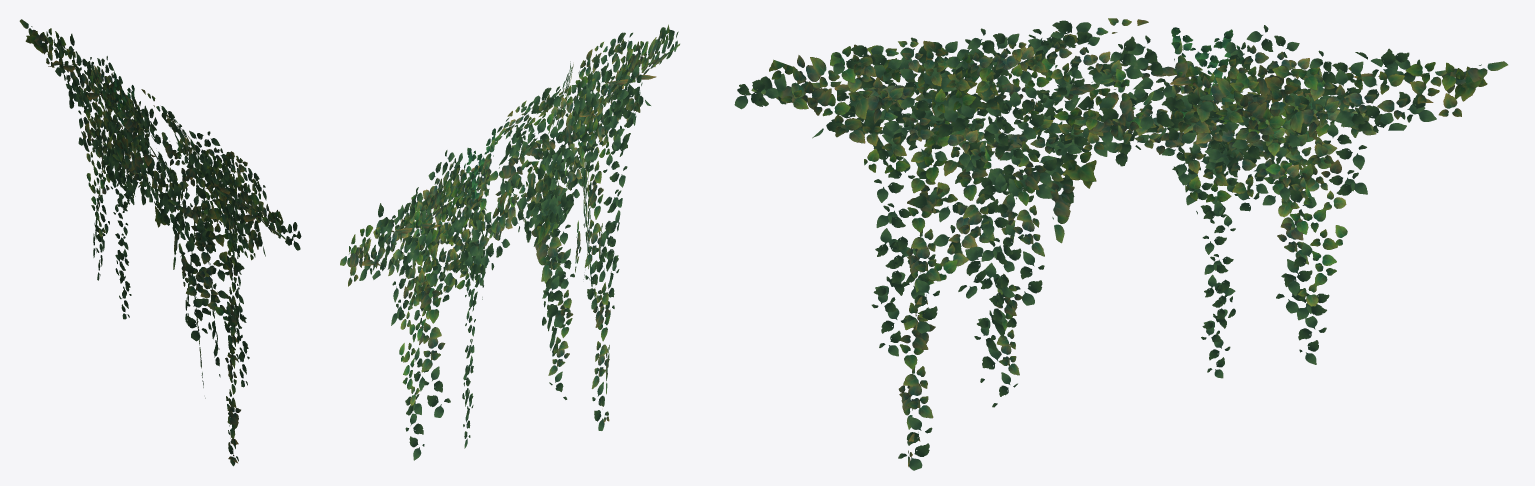
File: SM_Ivy_Side_D_FlowersColored.fbx
3 views of the same model, side by side, from view 1: azimuth 30°, elevation 25°; view 2: azimuth 150°, elevation 25°; view 3: azimuth 270°, elevation 25° (orthographic). The views are drawn at different scales.
Parts seen in each view (by area): view 1: SM_Ivy_Side_D_FlowersColored_LOD2; view 2: SM_Ivy_Side_D_FlowersColored_LOD2; view 3: SM_Ivy_Side_D_FlowersColored_LOD2.
Boxes of the visible parts, bbox=[...] form: SM_Ivy_Side_D_FlowersColored_LOD2: bbox=[19, 19, 301, 466]; SM_Ivy_Side_D_FlowersColored_LOD2: bbox=[340, 24, 679, 460]; SM_Ivy_Side_D_FlowersColored_LOD2: bbox=[734, 18, 1507, 470].
Size of the model in its own units: 79.17 by 502 by 809.
